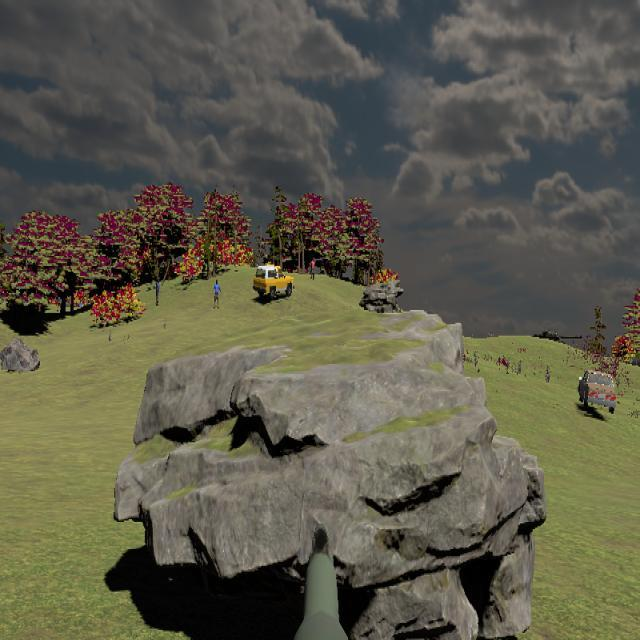car: (577, 368, 617, 414), (253, 265, 294, 300)
